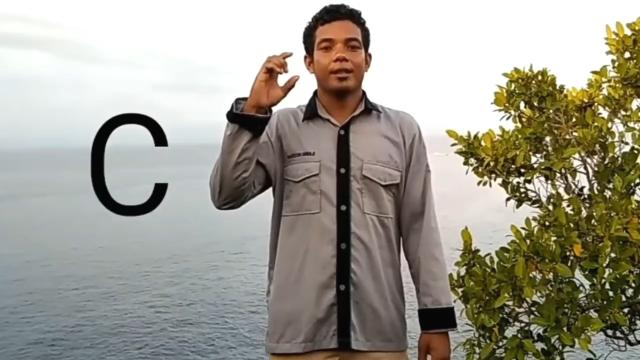C: (248, 49, 302, 107)
